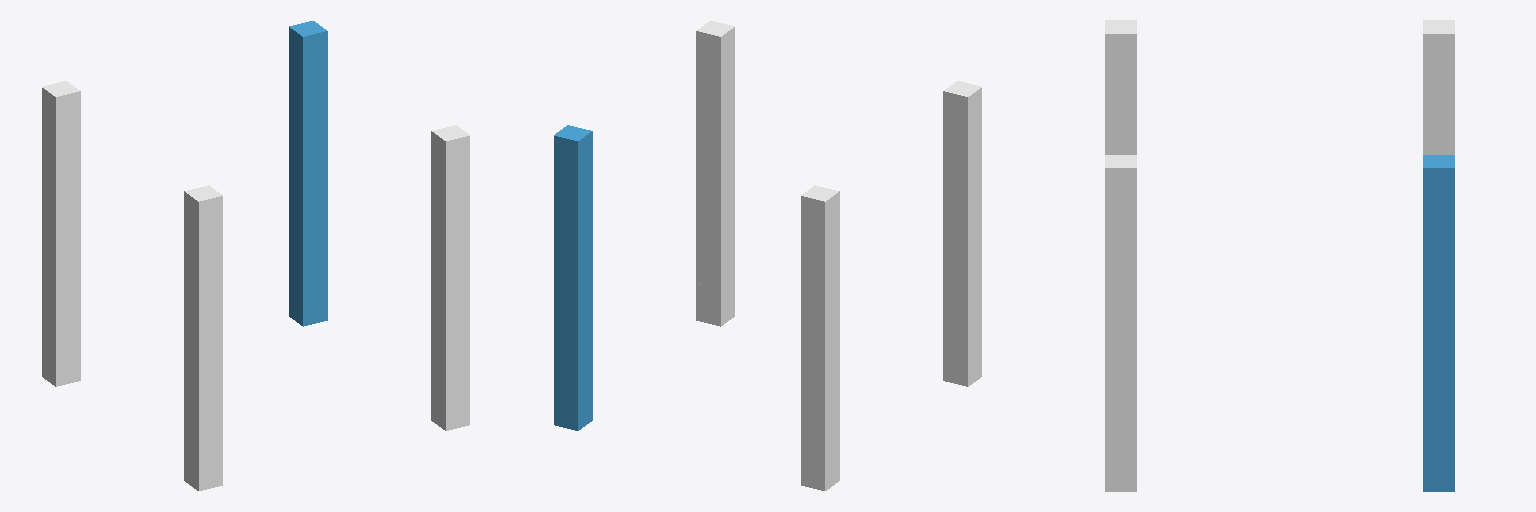
URDF robot description (urdf_table):
<?xml version="1.0" ?>
<robot name="urdf_table">
 <link name="world"/>
  <joint name="fixed" type="fixed">
    <parent link="world"/>
    <child link="baseLink"/>
    <origin xyz="0 0 0"/>
  </joint>

  <link name="baseLink">
    <inertial>
      <origin rpy="0 0 0" xyz="0 0 0.6"/>
       <mass value="0"/>
       <inertia ixx="0.1" ixy="0" ixz="0" iyy="0.1" iyz="0" izz="0.1"/>
    </inertial>
    <visual>
      <origin rpy="0 0 0" xyz="0 0 0.6"/>
      <geometry>
	    <mesh filename="table.obj" scale="1.0 1.0 0.08"/>
      </geometry>
	   <material name="framemat0">
      <color
                    rgba="1 1 1 1" />
      </material>
    </visual>
    <visual>
      <origin rpy="0 0 0" xyz="-0.25 -0.25 0.28"/>
      <geometry>
        <box size="0.05 0.05 0.56"/>
      </geometry>
	  <material name="framemat0"/>
    </visual>
    <visual>
      <origin rpy="0 0 0" xyz="-0.25 0.25 0.28"/>
      <geometry>
        <box size="0.05 0.05 0.56"/>
      </geometry>
	  <material name="framemat0"/>
	  </visual>
    <visual>
      <origin rpy="0 0 0" xyz="0.25 -0.25 0.28"/>
      <geometry>
        <box size="0.05 0.05 0.56"/>
      </geometry>
	  <material name="framemat0"/>
	  </visual>
    <visual>
      <origin rpy="0 0 0" xyz="0.25 0.25 0.28"/>
      <geometry>
        <box size="0.05 0.05 0.56"/>
      </geometry>
    </visual>
    <collision>
      <origin rpy="0 0 0" xyz="0 0 0.6"/>
      <geometry>
      <box size="1.0 1.0 0.08"/>
      </geometry>
    </collision>    
  </link>
</robot>

--- What the picture shows (computed from the rendered views, not written in the file) ---
3 views of the same robot in one strip: view 1: azimuth 30°, elevation 25°; view 2: azimuth 150°, elevation 25°; view 3: azimuth 270°, elevation 25° (orthographic).
Robot: urdf_table — 2 links, 1 joints (1 fixed); root link world; default pose: every joint at zero.
Visible links, largest first — view 1: baseLink; view 2: baseLink; view 3: baseLink.
Link boxes in pixels (x1,y1,x2,y2): baseLink: (42,21,469,490); baseLink: (554,21,981,490); baseLink: (1105,20,1454,491).
Size in the robot's own frame: 0.55 by 0.55 by 0.56 metres.
0 mesh visuals loaded from 1 distinct referenced files (none loaded); not drawn: 1 (reference not matched to a file when rendering).